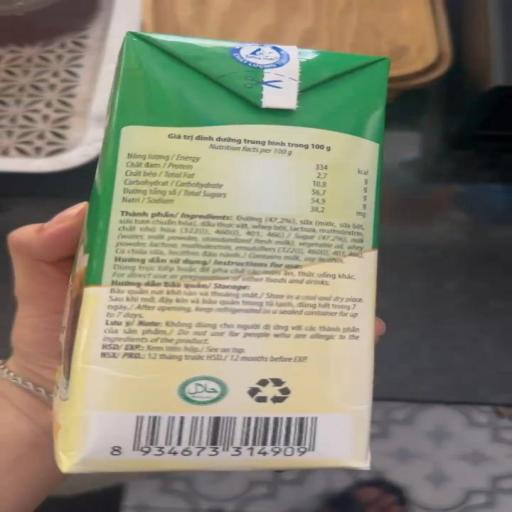ly_giay: (54, 32, 388, 472)
